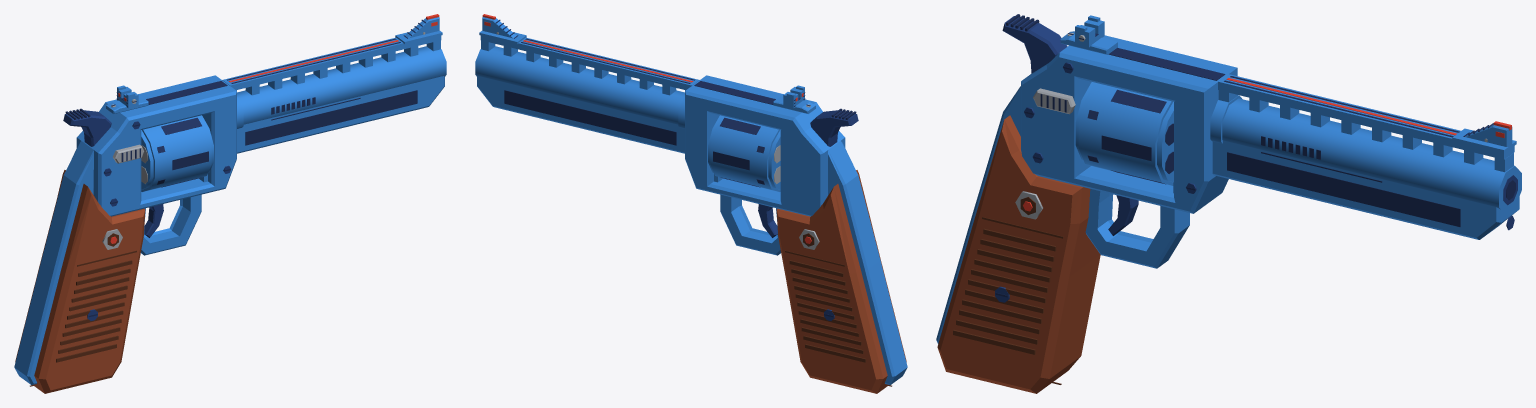
Rendered from python_revolver.obj.
3 views of the same model, side by side, from view 1: azimuth 30°, elevation 25°; view 2: azimuth 150°, elevation 25°; view 3: azimuth 330°, elevation 25° (orthographic). The views are drawn at different scales.
Visible parts, largest first — view 1: grip_walnut, frame, barrel, grip_frame, ejector_shroud, cylinder_body, grip_grooves_r, shroud_gold_panel_r, vent_rib_top, trigger_guard, hammer, topstrap_groove (+7 smaller); view 2: grip_walnut, frame, barrel, grip_frame, ejector_shroud, cylinder_body, grip_grooves_l, shroud_gold_panel_l, vent_rib_top, trigger_guard, hammer, topstrap_groove (+6 smaller); view 3: grip_walnut, frame, barrel, ejector_shroud, cylinder_body, grip_grooves_r, shroud_gold_panel_r, vent_rib_top, trigger_guard, hammer, grip_frame, topstrap_groove (+12 smaller).
Part boxes in pixels (bbox=[...]): grip_walnut: bbox=[15, 170, 145, 393]; frame: bbox=[76, 75, 236, 216]; barrel: bbox=[237, 46, 446, 124]; grip_frame: bbox=[14, 141, 93, 385]; ejector_shroud: bbox=[237, 76, 444, 153]; cylinder_body: bbox=[141, 116, 211, 191]; grip_grooves_r: bbox=[56, 260, 132, 362]; shroud_gold_panel_r: bbox=[245, 90, 417, 145]; vent_rib_top: bbox=[222, 35, 441, 90]; trigger_guard: bbox=[141, 194, 201, 255]; hammer: bbox=[63, 110, 111, 146]; topstrap_groove: bbox=[146, 81, 227, 104]; grip_walnut: bbox=[776, 170, 906, 393]; frame: bbox=[685, 75, 845, 216]; barrel: bbox=[475, 46, 684, 124]; grip_frame: bbox=[828, 141, 907, 385]; ejector_shroud: bbox=[477, 76, 684, 153]; cylinder_body: bbox=[710, 116, 780, 191]; grip_grooves_l: bbox=[789, 260, 865, 362]; shroud_gold_panel_l: bbox=[504, 90, 676, 145]; vent_rib_top: bbox=[480, 35, 699, 90]; trigger_guard: bbox=[720, 194, 780, 255]; hammer: bbox=[810, 110, 858, 146]; topstrap_groove: bbox=[694, 81, 775, 104]; grip_walnut: bbox=[937, 115, 1100, 393]; frame: bbox=[1021, 35, 1237, 213]; barrel: bbox=[1222, 98, 1521, 209]; ejector_shroud: bbox=[1212, 140, 1519, 239]; cylinder_body: bbox=[1078, 82, 1173, 185]; grip_grooves_r: bbox=[953, 228, 1056, 354]; shroud_gold_panel_r: bbox=[1227, 152, 1460, 226]; vent_rib_top: bbox=[1218, 74, 1514, 159]; trigger_guard: bbox=[1085, 189, 1189, 268]; hammer: bbox=[1002, 16, 1067, 73]; grip_frame: bbox=[936, 86, 1020, 343]; topstrap_groove: bbox=[1108, 48, 1225, 80].
Bounding box in the file's own units: 0.2623 × 0.1634 × 0.0388.
